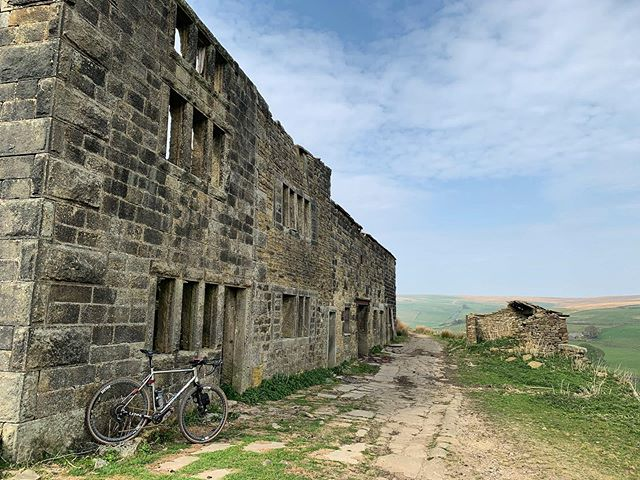bicicle: (79, 351, 245, 459)
building: (4, 3, 390, 475), (450, 291, 573, 371)
sky: (397, 1, 640, 290)
